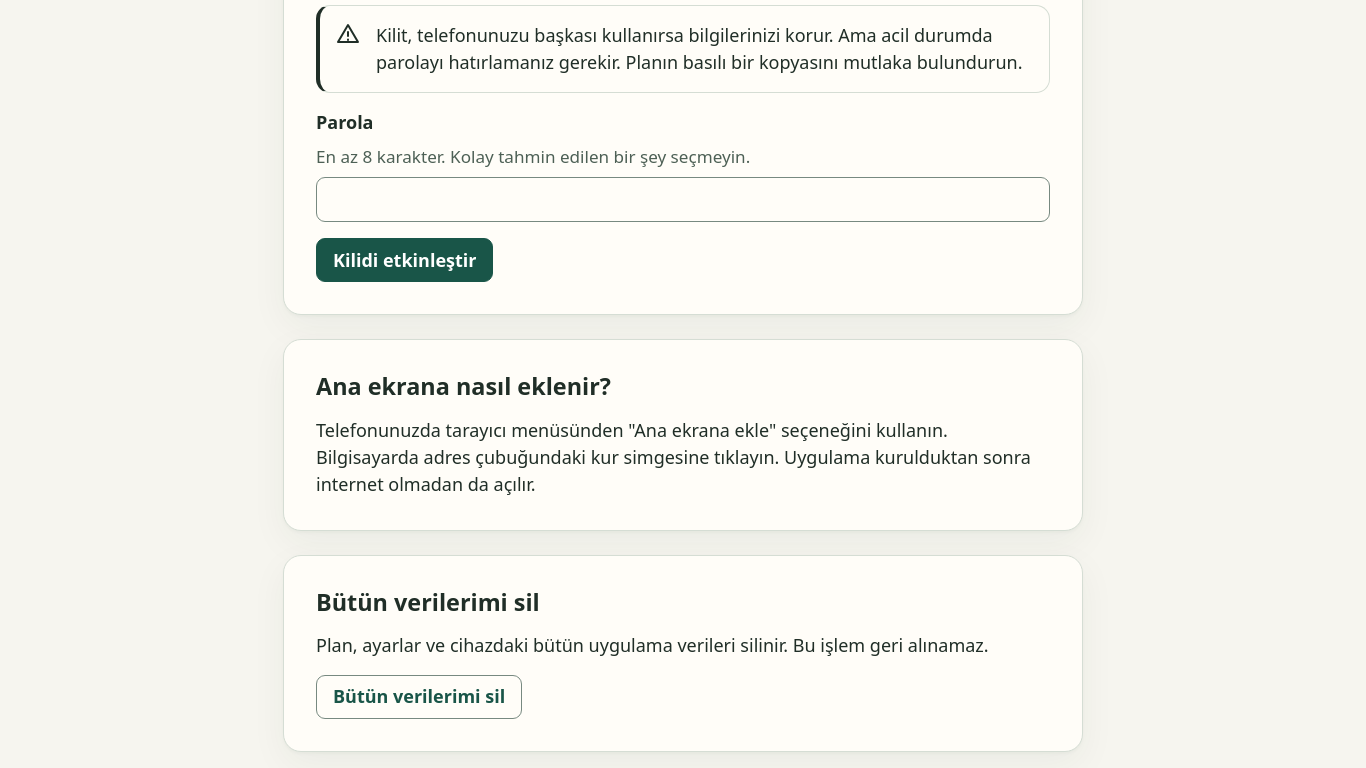
Test: Settings — bütün verileri sil (§9.4, §18.4-7) › onaydan önce silmez, onaydan sonra onClearAll çağırır
(page scrolled)
Step 1. Click the button "Bütün verilerimi sil" → (419, 697), box [316, 675, 522, 719]
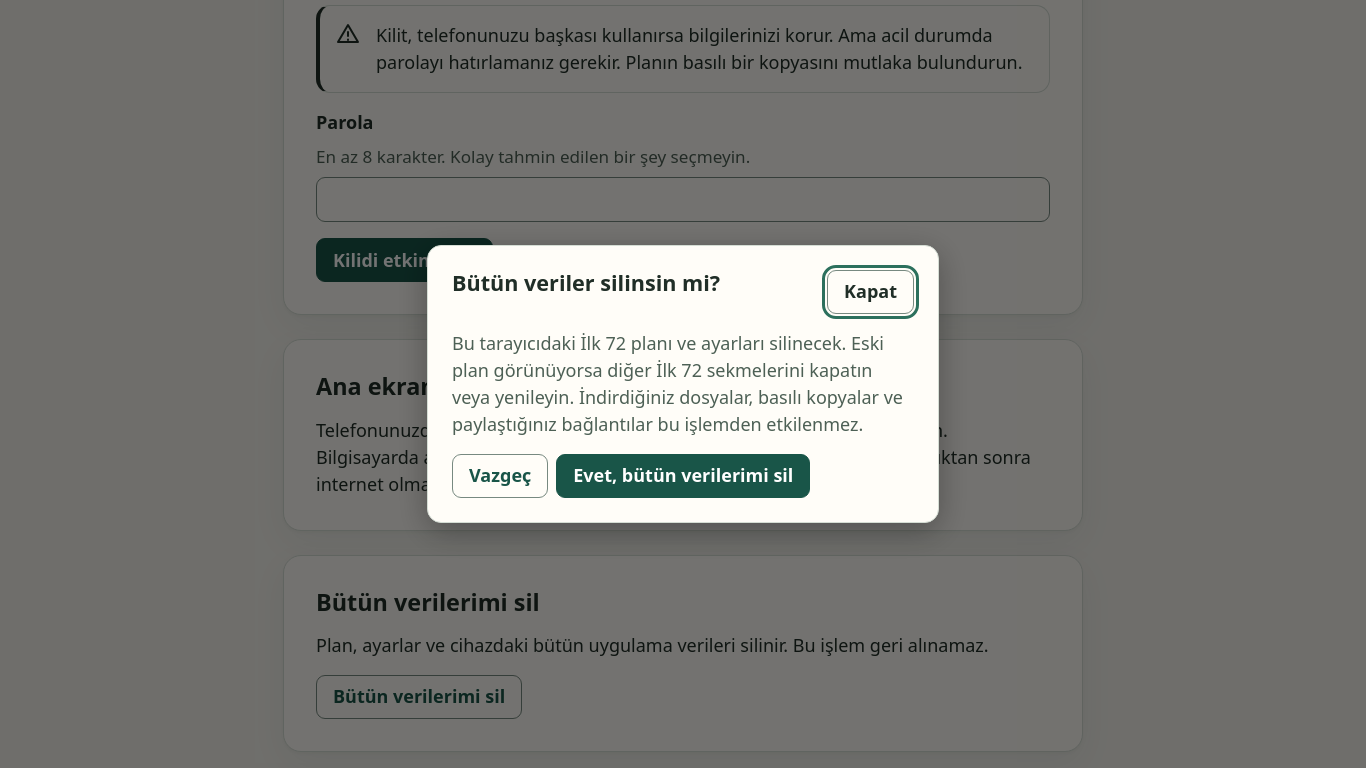
Result: the heading "Bütün veriler silinsin mi?" is shown at [452, 270, 720, 296]
Step 2. Click the button "Evet, bütün verilerimi sil" → (683, 476), box [556, 454, 810, 498]
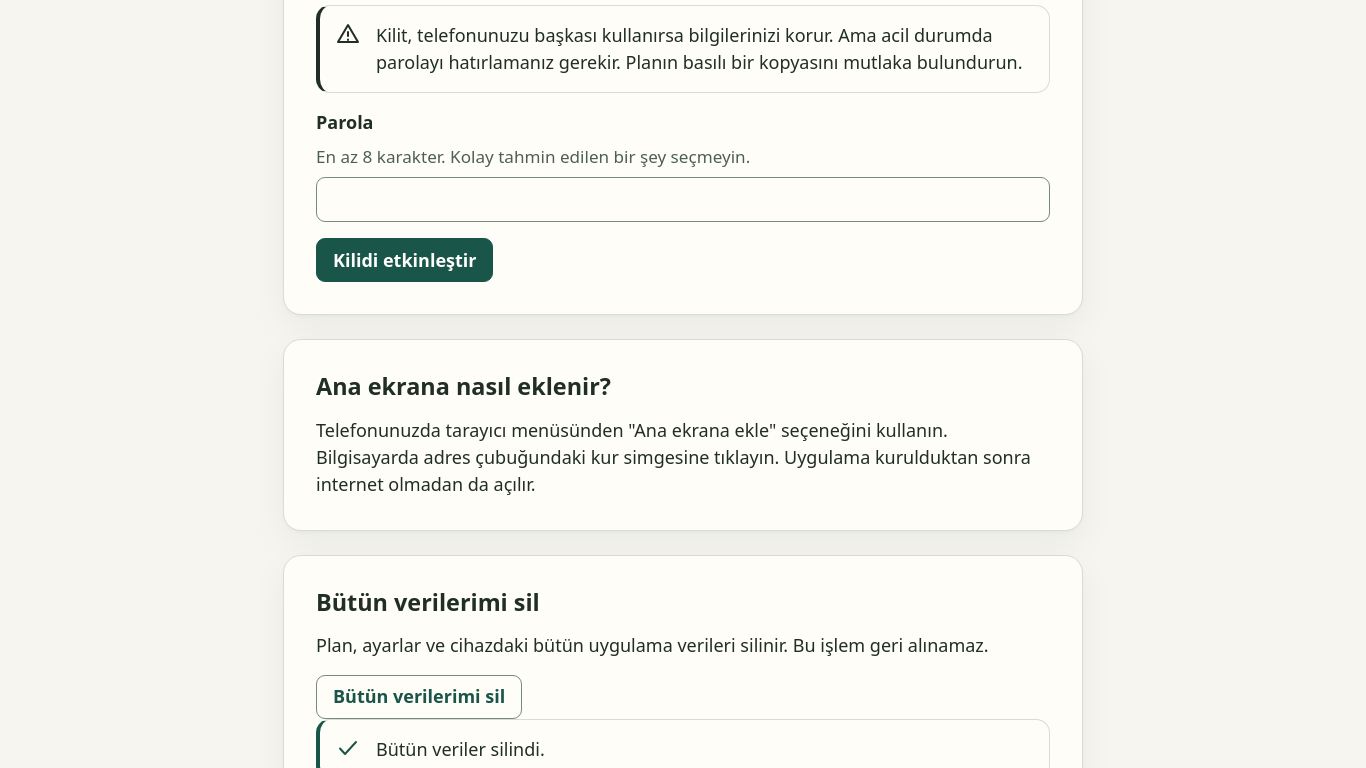
Result: the text "Bütün veriler silindi." is shown at [376, 736, 545, 763]
